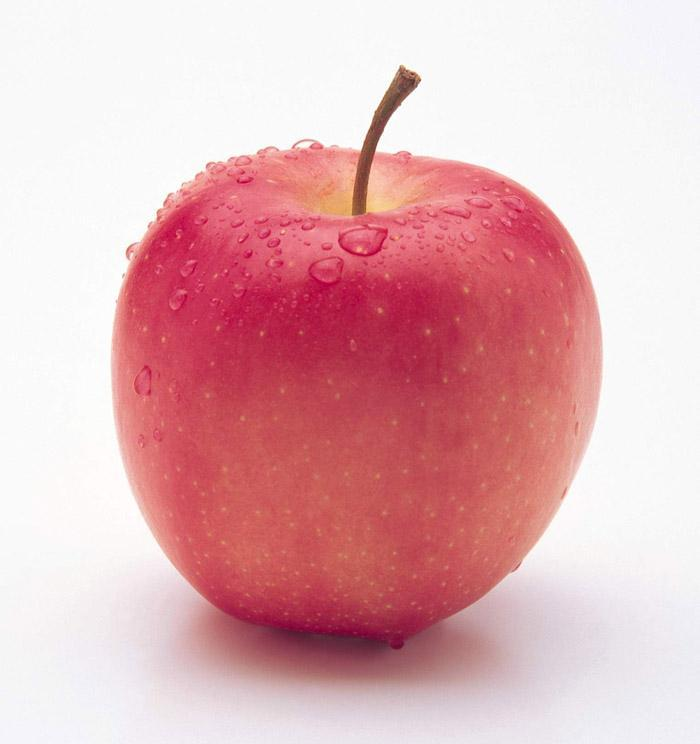apple: (110, 111, 600, 646)
